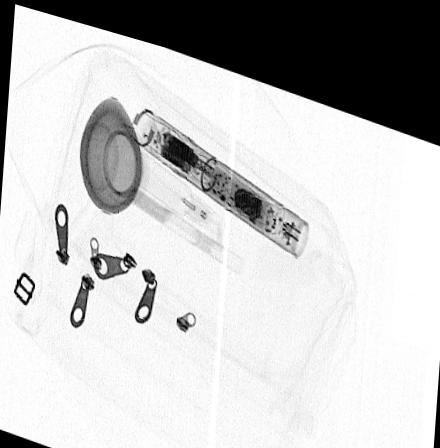Baton: (130, 98, 309, 243)
